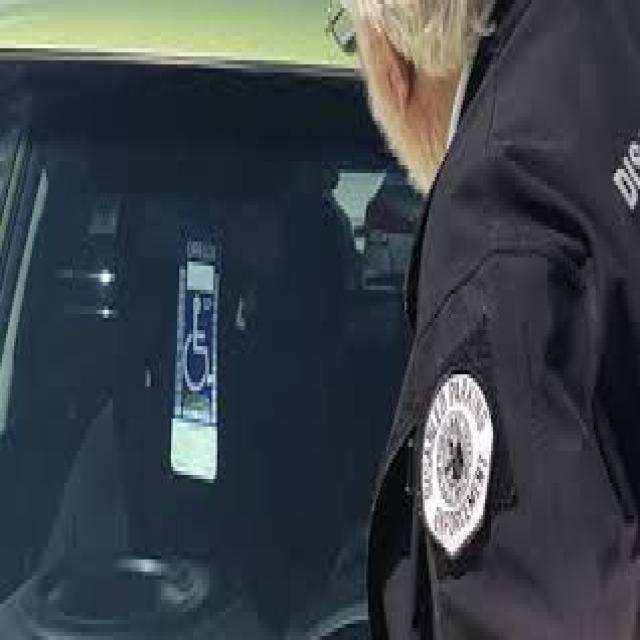car-handicap-placard: (181, 294, 214, 393)
